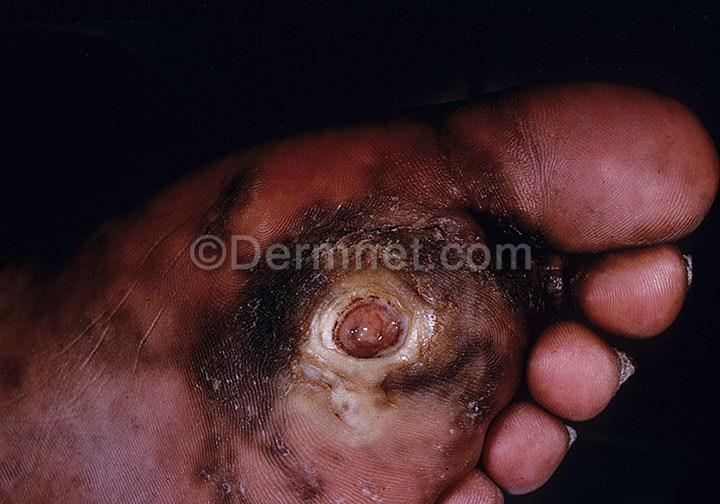Eczema: (308, 272, 475, 457), (187, 278, 311, 466), (51, 244, 179, 373), (393, 103, 519, 225), (479, 272, 579, 360), (278, 161, 379, 236)
